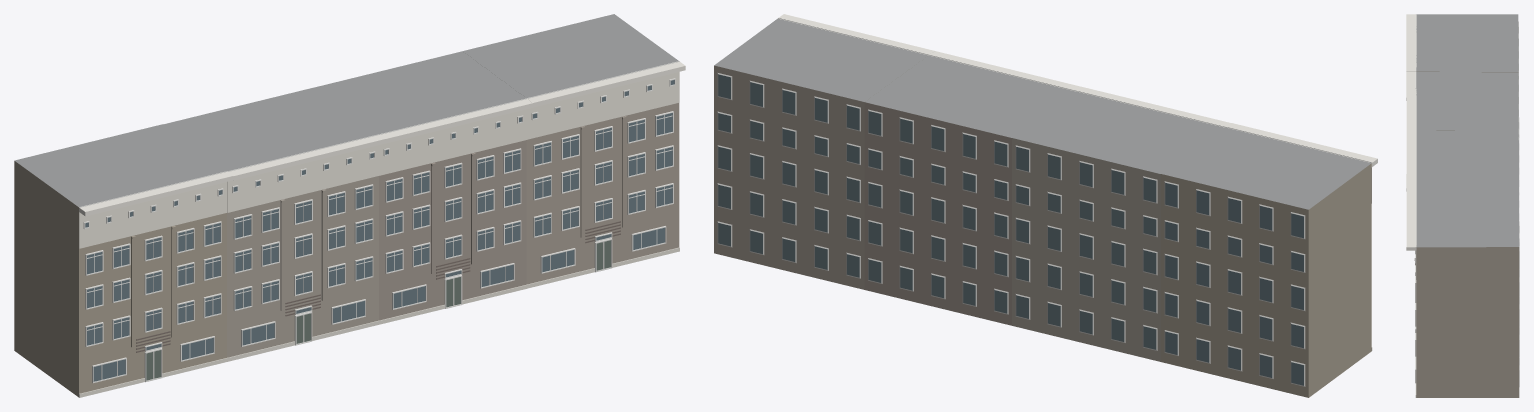
File: chunk-face-hembrug-160-272-r1.glb
3 views of the same model, side by side, from view 1: azimuth 30°, elevation 25°; view 2: azimuth 150°, elevation 25°; view 3: azimuth 270°, elevation 25° (orthographic). The views are drawn at different scales.
Parts seen in each view (by area): view 1: face-hembrug-160-272-r1; view 2: face-hembrug-160-272-r1; view 3: face-hembrug-160-272-r1.
Part boxes in pixels (bbox=[...]): face-hembrug-160-272-r1: bbox=[14, 14, 685, 397]; face-hembrug-160-272-r1: bbox=[714, 14, 1377, 397]; face-hembrug-160-272-r1: bbox=[1406, 14, 1519, 397].
Bounding box in the file's own units: 49.65 × 15.06 × 10.21.
